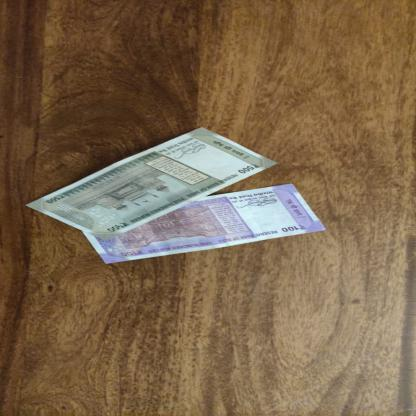New100Back: (82, 184, 326, 264)
New500Back: (22, 126, 280, 241)
